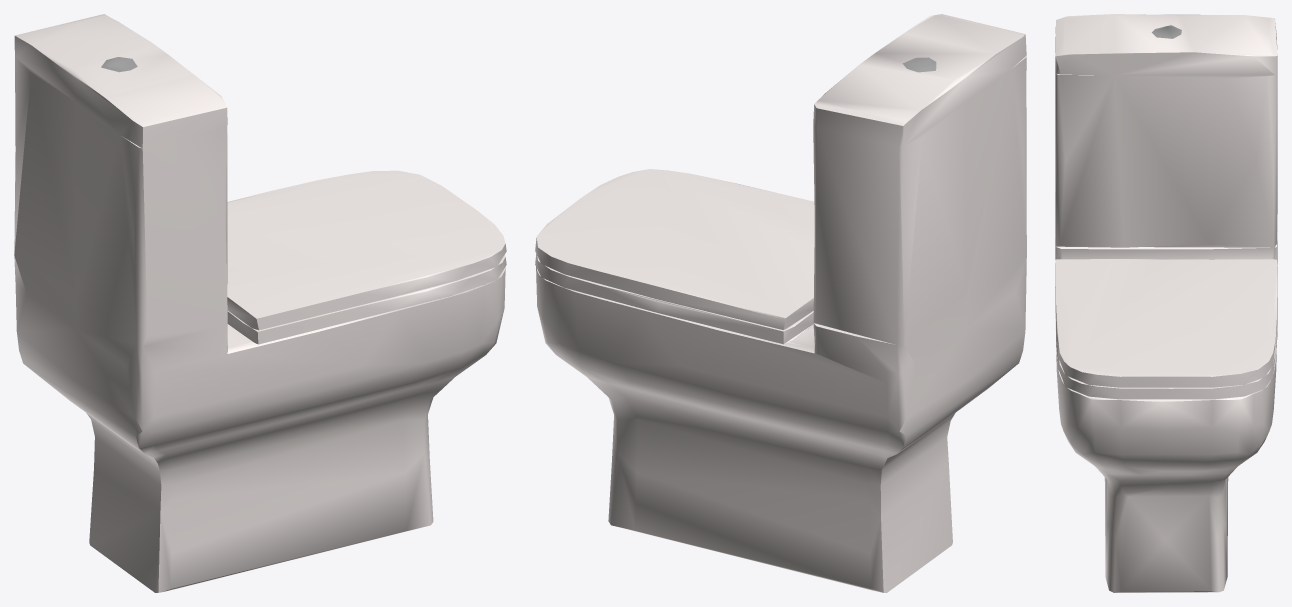
The model's file is Toilet0001.obj.
3 renders of one model, left to right at view 1: azimuth 30°, elevation 25°; view 2: azimuth 150°, elevation 25°; view 3: azimuth 270°, elevation 25°, orthographic. The views are drawn at different scales.
Bounding box in the file's own units: 0.644 × 0.791 × 0.36.
1 material, 1 textured.
